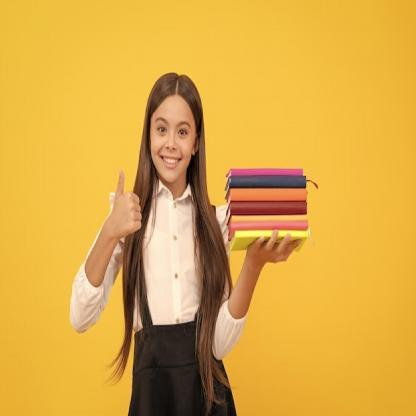thumb_up: (105, 163, 144, 240)
